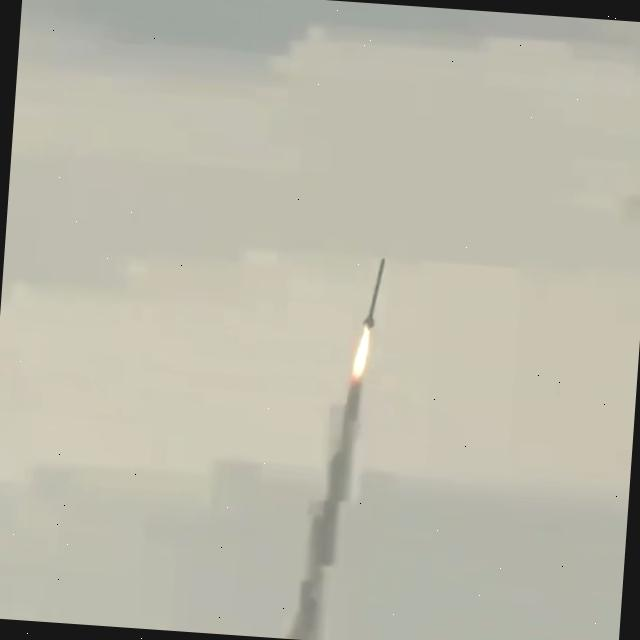smoke_trail_with_rocket: (285, 259, 385, 640)
